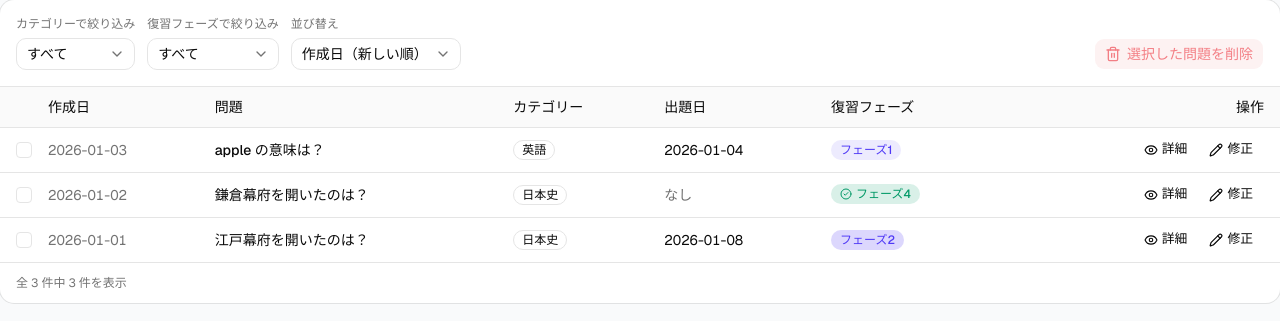
Test case: QuestionList 一括削除 › 選択を外すと削除ボタンを再び押せなくなる
Click the checkbox named "「江戸幕府を開いたのは？」を選択". click: (24, 240)
box: [16,232,32,248]
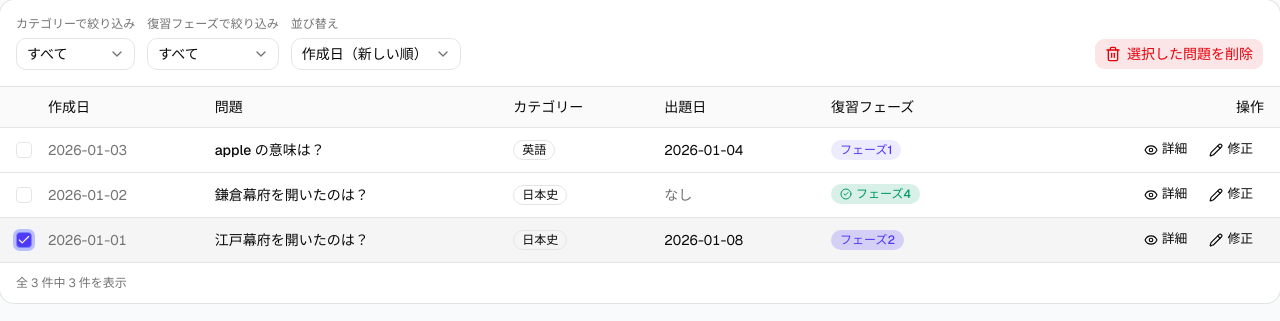
Click the checkbox named "「江戸幕府を開いたのは？」を選択". click: (24, 240)
box: [16,232,32,248]
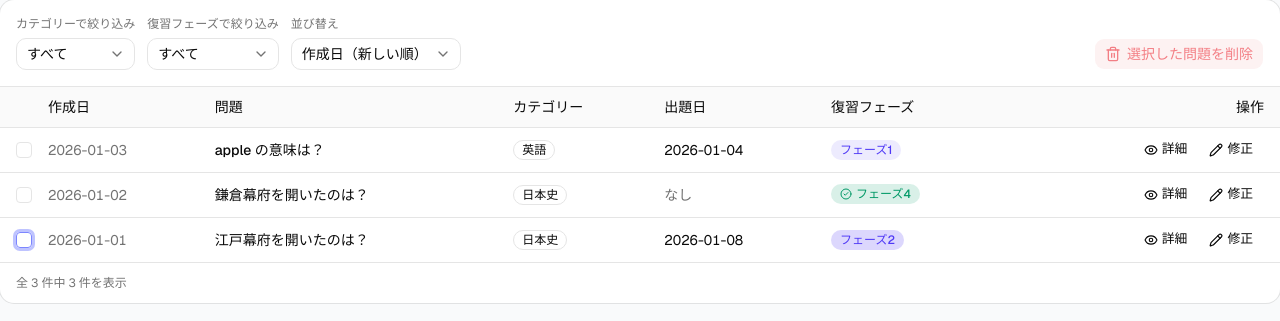
Result: the button "選択した問題を削除" is disabled at [1094,38,1264,70]
